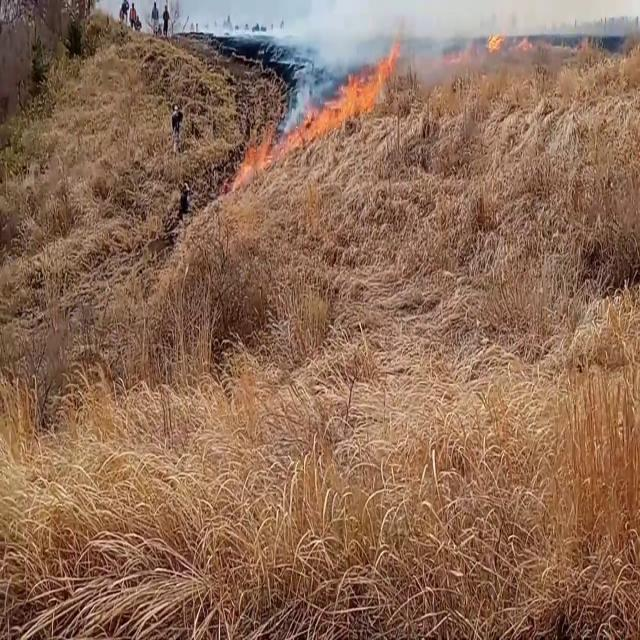Fire: (304, 33, 408, 135), (484, 23, 507, 54)
